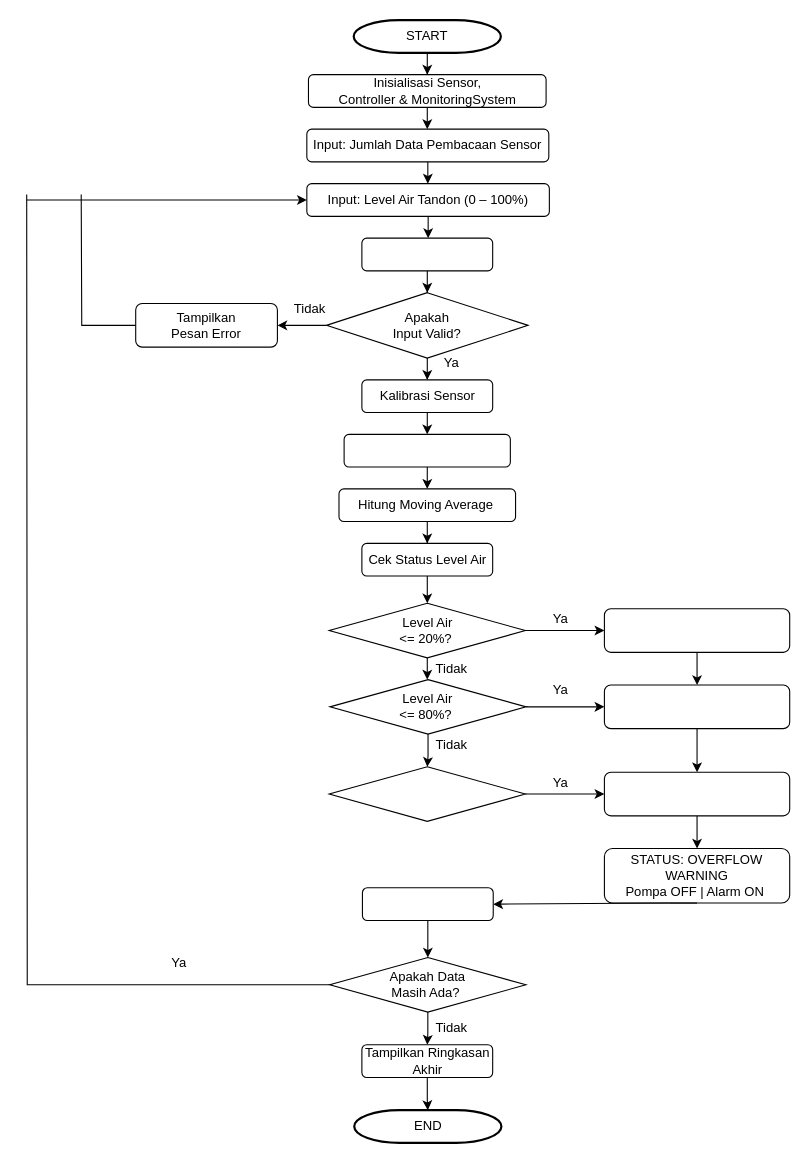
This 809x1162 diagram has some shape labels left out. The shapes that lost their labels are listed below. From the top down, each one's box as (x1, y1, x2, y2) in pixels, then its label:
(361, 237, 493, 271): Validasi Input
(343, 433, 510, 467): Simpan Data ke Vector
(603, 608, 790, 652): STATUS: AIR RENDAH Pompa ON | Alarm OFF
(603, 684, 790, 729): STATUS: NORMAL Pompa OFF | Alarm OFF
(328, 766, 525, 821): Level Air <= 95%?
(603, 771, 790, 816): STATUS: HAMPIR PENUH Pompa OFF | Alarm OFF
(361, 887, 493, 921): Tampilkan Dashboard Monitoring
